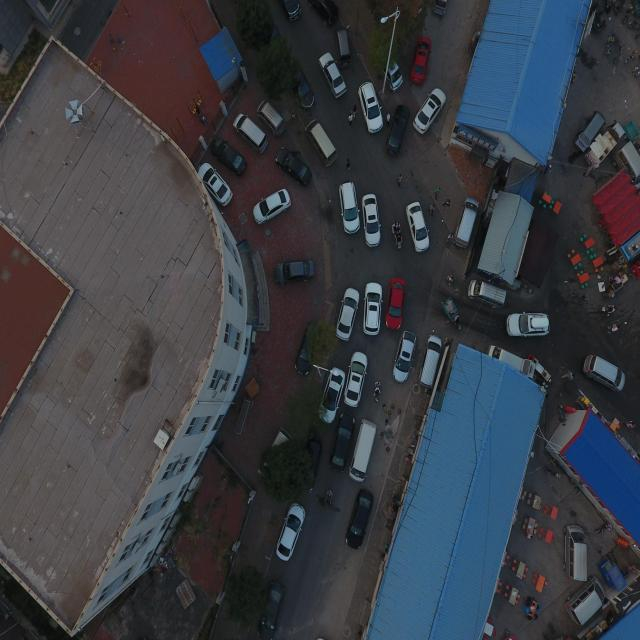p3rson: (607, 274, 622, 286), (198, 111, 208, 126), (560, 370, 574, 380), (600, 288, 614, 298), (607, 324, 620, 334), (620, 420, 636, 428), (324, 490, 332, 504), (442, 198, 451, 210), (523, 604, 532, 615), (542, 163, 551, 174), (434, 187, 441, 201), (395, 173, 402, 187), (522, 531, 533, 539), (385, 111, 390, 128), (428, 203, 434, 217), (526, 596, 534, 606), (453, 315, 461, 325), (445, 274, 453, 284), (445, 234, 453, 244), (604, 2, 612, 12), (195, 103, 201, 116), (395, 232, 402, 243), (374, 386, 380, 398), (348, 112, 353, 126), (351, 104, 356, 118), (290, 111, 295, 125), (607, 323, 617, 329), (346, 157, 350, 171), (532, 612, 538, 620), (572, 70, 576, 82), (374, 380, 380, 387), (396, 222, 400, 232), (536, 602, 540, 611), (392, 223, 396, 232)
